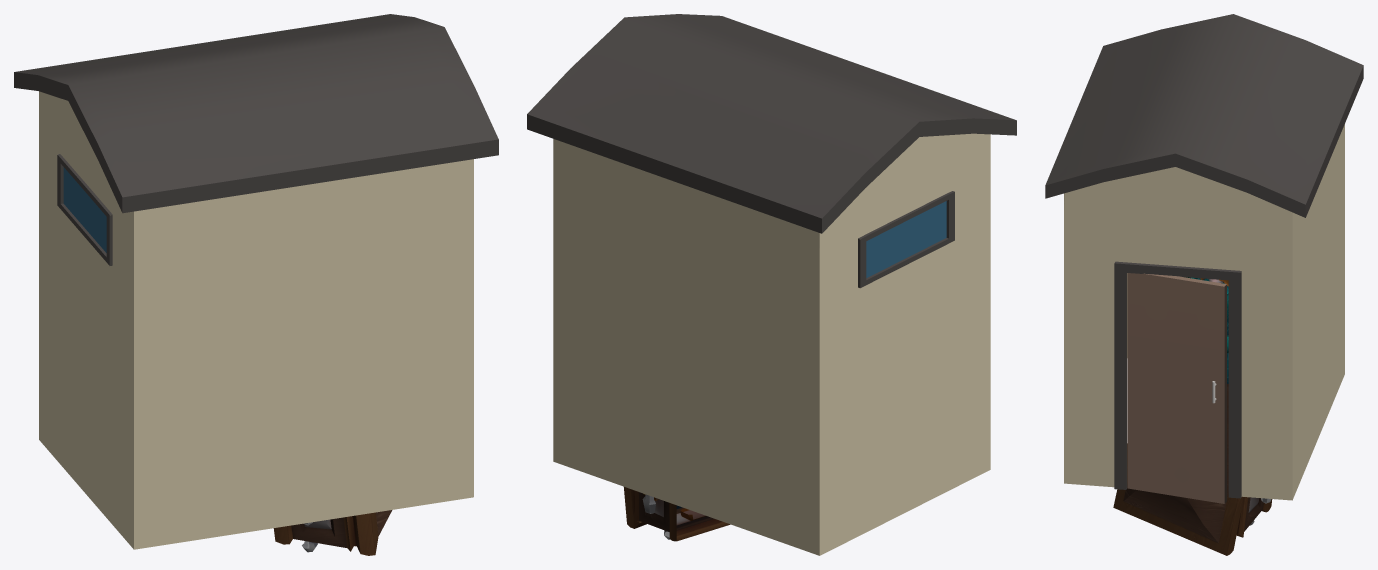
The model's file is shady shed.fbx.
The picture shows the model from 3 angles, left to right: view 1: azimuth 30°, elevation 25°; view 2: azimuth 150°, elevation 25°; view 3: azimuth 270°, elevation 25°; orthographic projection. The views are drawn at different scales.
Visible parts, largest first — view 1: shed, Casket; view 2: shed, Casket; view 3: shed, door, Casket.
Boxes of the visible parts, bbox=[...] form: shed: bbox=[14, 14, 498, 549]; Casket: bbox=[273, 510, 392, 555]; shed: bbox=[527, 14, 1016, 555]; Casket: bbox=[624, 487, 730, 541]; shed: bbox=[1045, 14, 1363, 500]; door: bbox=[1127, 273, 1226, 503]; Casket: bbox=[1113, 384, 1272, 555].
Size of the model in its own units: 2026 by 2478 by 1716.
